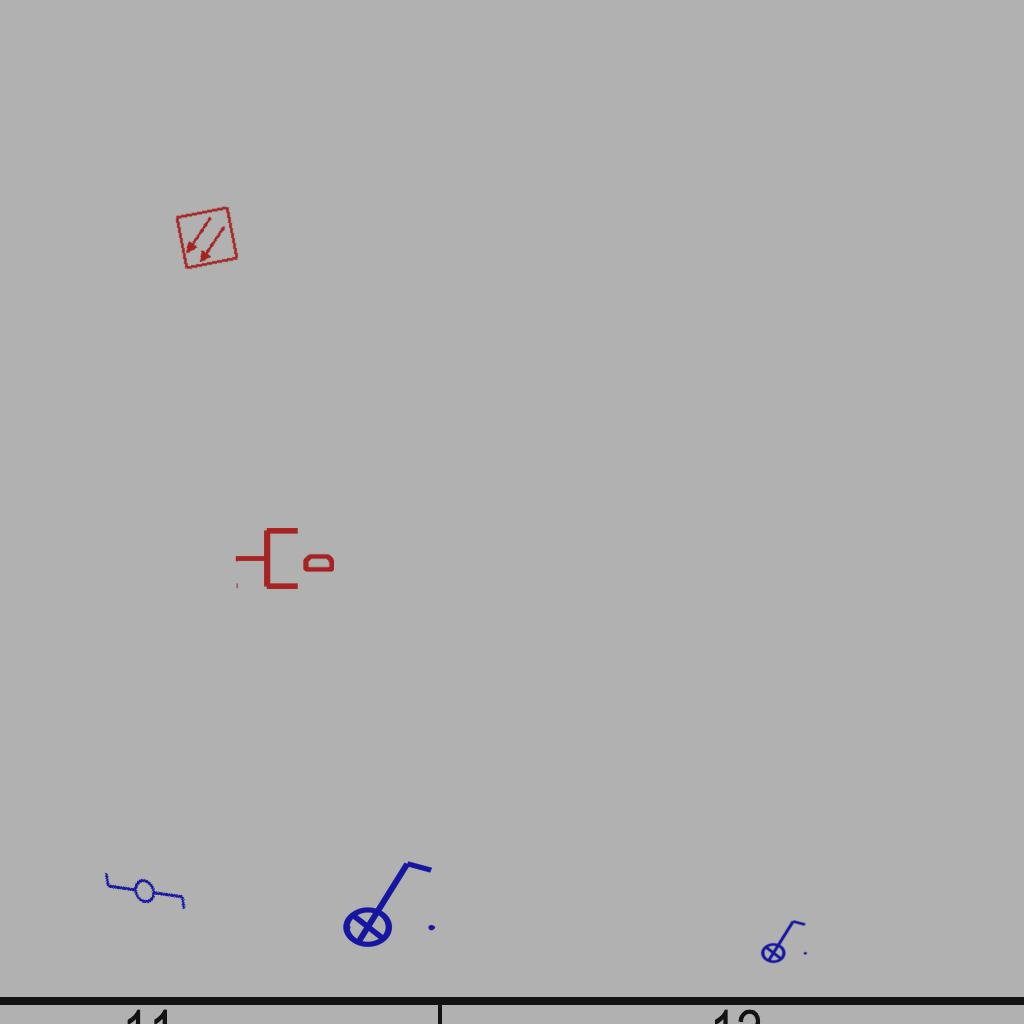Ausschalter_beleuchtet: (329, 853, 441, 949), (754, 916, 810, 964)
Datenanschluss_einfach: (234, 524, 334, 593)
RMO_Rauchmelder_optischer: (174, 205, 240, 271)
Wechselschalter: (95, 836, 193, 938)
